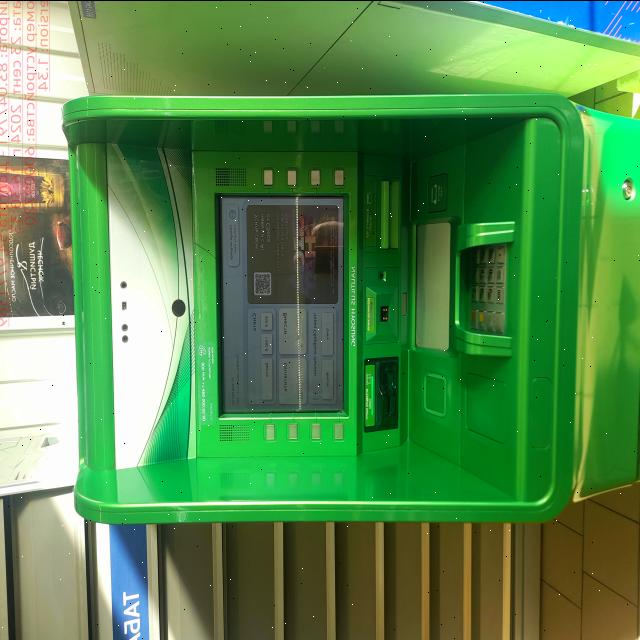bank: (60, 79, 640, 524)
